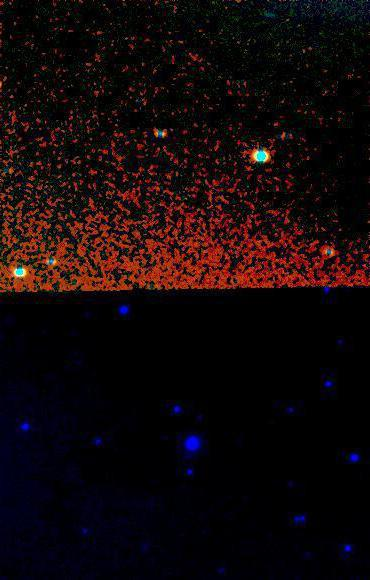star: (228, 179, 258, 209)
